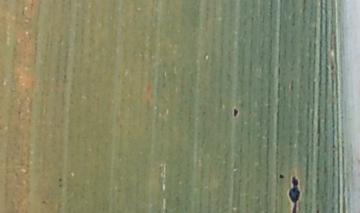tarspot: (287, 174, 301, 213), (327, 52, 336, 72), (231, 106, 240, 118), (301, 1, 307, 14), (289, 78, 295, 90), (277, 172, 285, 180), (313, 207, 321, 213), (39, 199, 47, 205), (56, 182, 63, 188), (56, 176, 63, 182)
